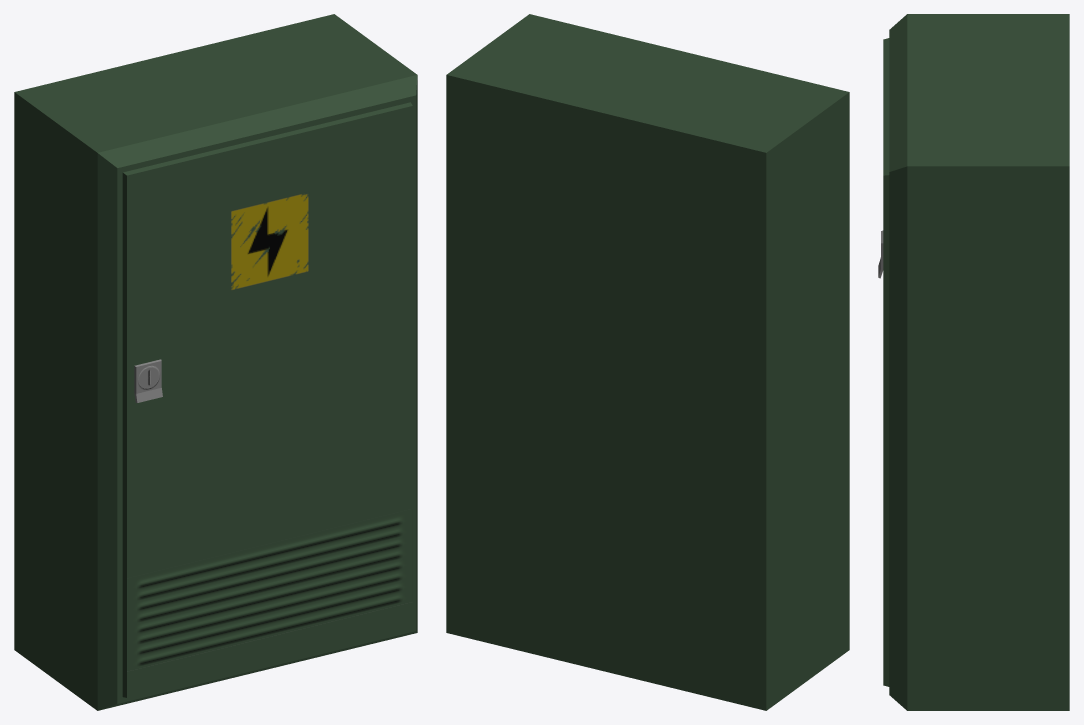
Rendered from SW_PROP_JunctionBox.fbx.
3 renders of one model, left to right at view 1: azimuth 30°, elevation 25°; view 2: azimuth 150°, elevation 25°; view 3: azimuth 270°, elevation 25°, orthographic. The views are drawn at different scales.
Parts seen in each view (by area): view 1: SW_PROP_JunctionBox; view 2: SW_PROP_JunctionBox; view 3: SW_PROP_JunctionBox.
Part boxes in pixels (bbox=[...]): SW_PROP_JunctionBox: bbox=[14, 14, 417, 710]; SW_PROP_JunctionBox: bbox=[446, 14, 849, 710]; SW_PROP_JunctionBox: bbox=[878, 14, 1069, 710].
Size of the model in its own units: 30 by 50 by 15.9.
